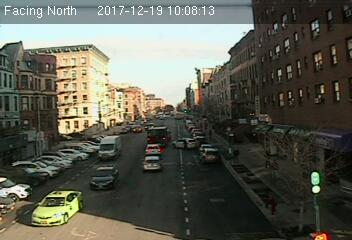car: (31, 189, 83, 226), (91, 166, 119, 188), (143, 155, 162, 172), (173, 136, 196, 149), (201, 148, 219, 163), (144, 144, 162, 156)
truck: (98, 135, 120, 161)
ups: (146, 127, 168, 144)
